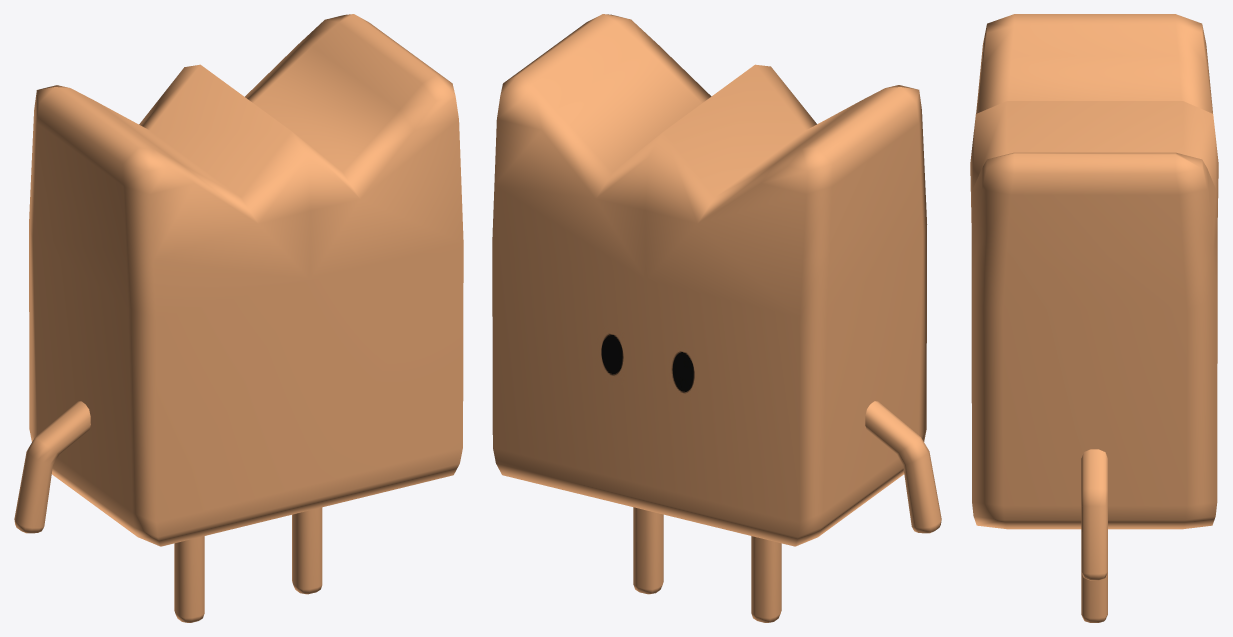
File: EnemyNatureWoodTinySecond.fbx
3 renders of one model, left to right at view 1: azimuth 30°, elevation 25°; view 2: azimuth 150°, elevation 25°; view 3: azimuth 270°, elevation 25°, orthographic. The views are drawn at different scales.
Visible parts, largest first — view 1: polySurface1, polySurface5, polySurface3, polySurface2; view 2: polySurface1, polySurface5, polySurface3, polySurface2; view 3: polySurface1, polySurface4, polySurface3.
Part boxes in pixels (<box>): polySurface1: <box>29,14,463,546</box>; polySurface5: <box>14,401,90,533</box>; polySurface3: <box>292,507,322,594</box>; polySurface2: <box>174,536,204,622</box>; polySurface1: <box>492,14,927,546</box>; polySurface5: <box>865,401,941,533</box>; polySurface3: <box>633,507,663,594</box>; polySurface2: <box>751,536,781,622</box>; polySurface1: <box>970,14,1218,529</box>; polySurface4: <box>1081,449,1107,580</box>; polySurface3: <box>1081,572,1107,622</box>.
Size of the model in its own units: 0.7555 by 0.8592 by 0.3809.
Materials: 1 (1 with a texture image).
